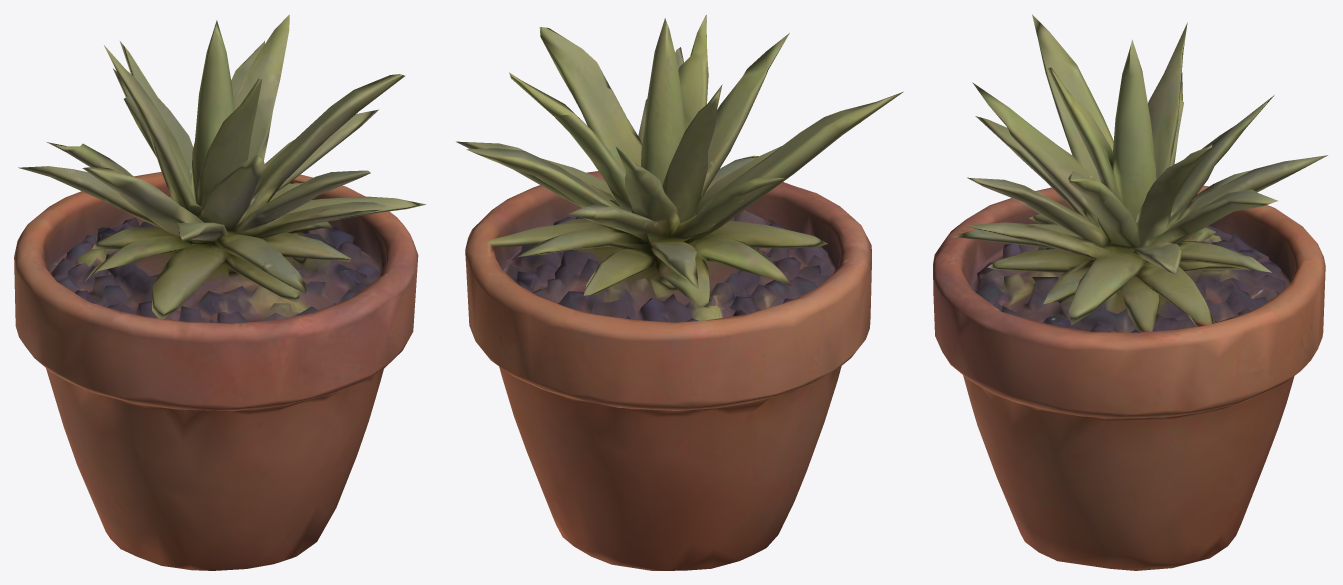
File: pot-agave.glb
3 renders of one model, left to right at view 1: azimuth 30°, elevation 25°; view 2: azimuth 150°, elevation 25°; view 3: azimuth 270°, elevation 25°, orthographic. The views are drawn at different scales.
Parts seen in each view (by area): view 1: tripo_node_60f5fa14-a3aa-4336-9a61-ace649e00b00; view 2: tripo_node_60f5fa14-a3aa-4336-9a61-ace649e00b00; view 3: tripo_node_60f5fa14-a3aa-4336-9a61-ace649e00b00.
Boxes of the visible parts, bbox=[...] form: tripo_node_60f5fa14-a3aa-4336-9a61-ace649e00b00: bbox=[14, 14, 426, 570]; tripo_node_60f5fa14-a3aa-4336-9a61-ace649e00b00: bbox=[456, 15, 903, 570]; tripo_node_60f5fa14-a3aa-4336-9a61-ace649e00b00: bbox=[933, 14, 1327, 570].
Bounding box in the file's own units: 0.7523 × 0.9951 × 0.7103.
Materials: 1 (1 with a texture image).
